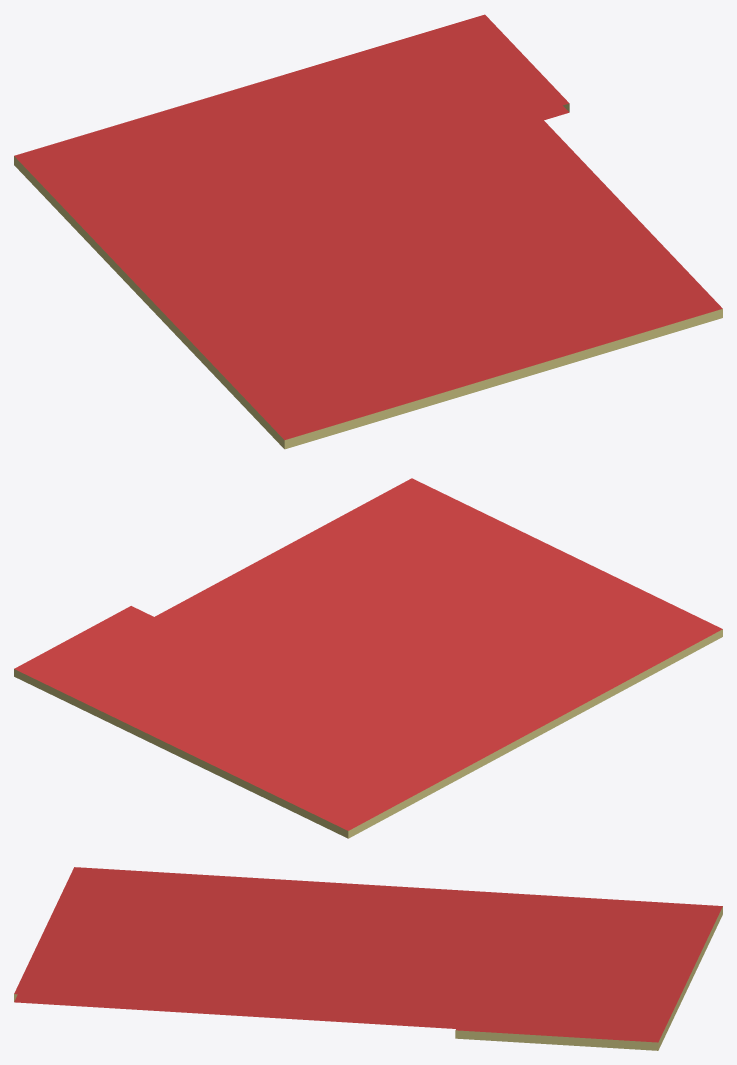
The picture shows the model from 3 angles, top to bottom: view 1: azimuth 30°, elevation 25°; view 2: azimuth 150°, elevation 25°; view 3: azimuth 270°, elevation 25°; orthographic projection. The views are drawn at different scales.
Bounding box in the file's own units: 5.93 × 7.7 × 0.764.
